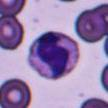N: (27, 31, 79, 80)
